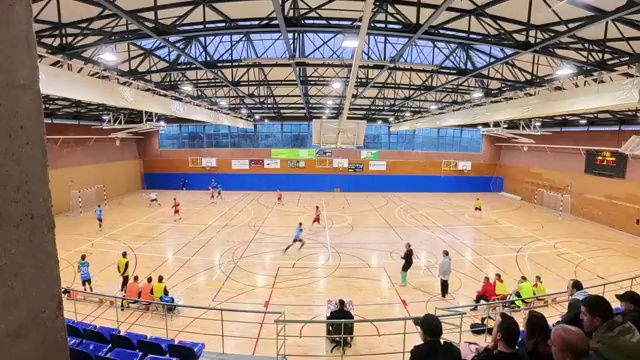players blue shirt: (283, 222, 304, 252), (95, 205, 102, 230), (217, 186, 223, 199), (209, 179, 216, 187)
players red shirt: (173, 198, 181, 221), (312, 207, 320, 225), (276, 190, 283, 204), (210, 188, 213, 201)
